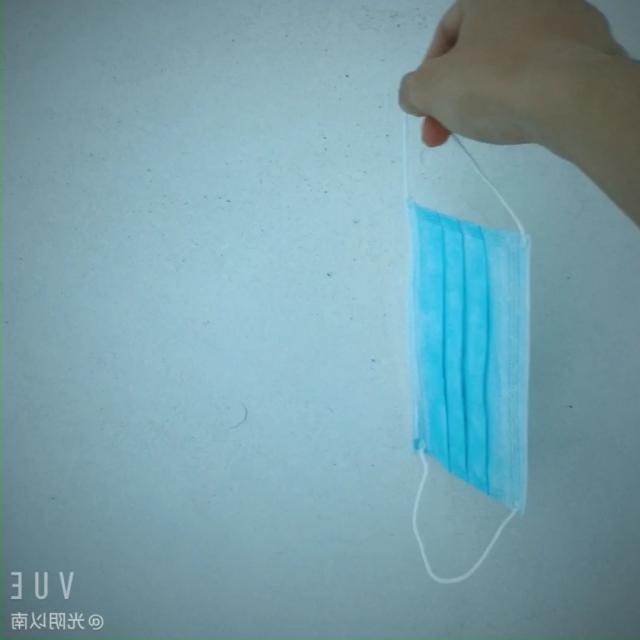face mask: (402, 207, 548, 540)
